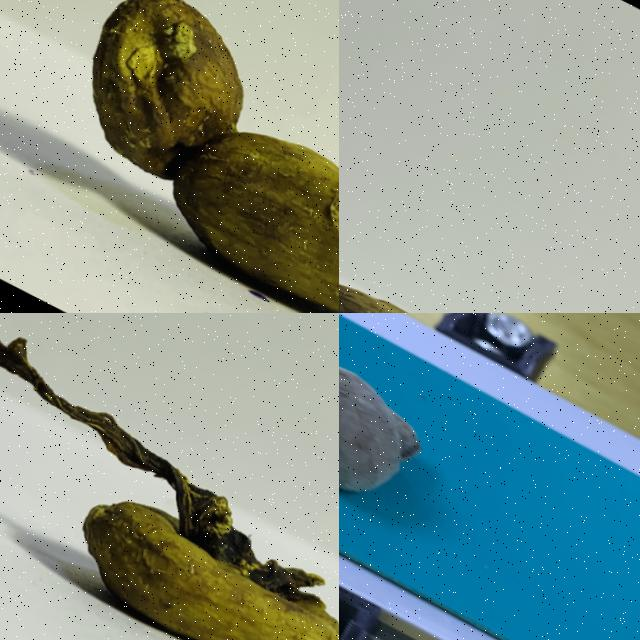Agglomerated_cocoabeans: (0, 313, 338, 639), (0, 0, 338, 312), (339, 313, 531, 598)
Fine_cocoabeans: (339, 142, 639, 312)
